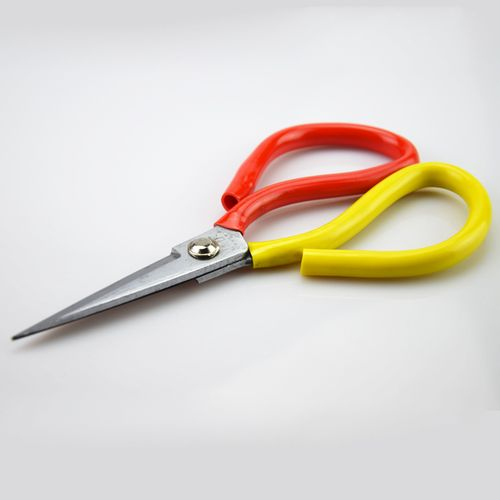scissor: (12, 121, 493, 345)
